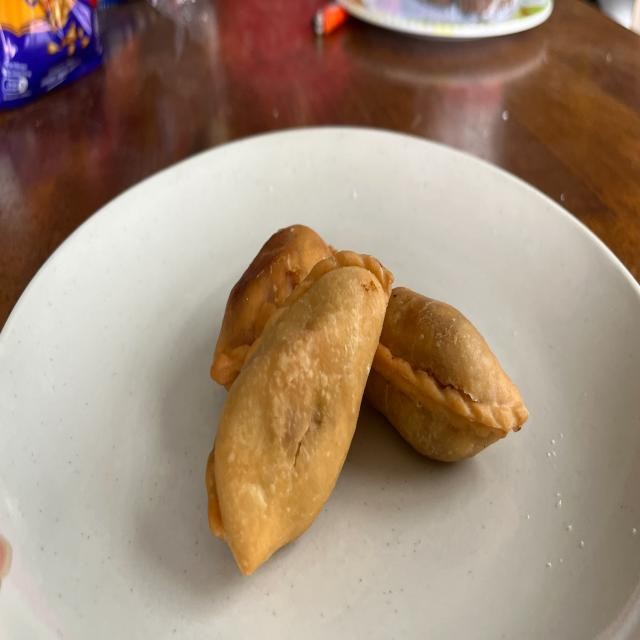karipap: (206, 251, 392, 576), (365, 287, 529, 460), (210, 224, 334, 389)
